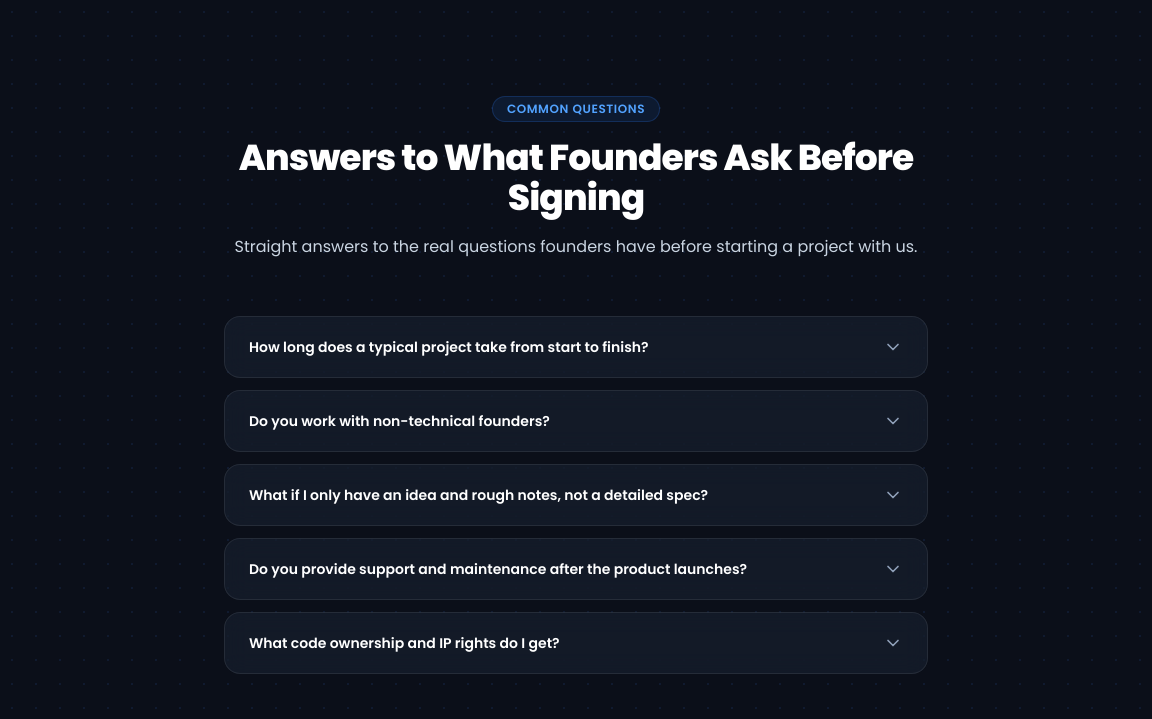
Test: FAQ Component › expands an FAQ answer when the question is clicked
Click the button "How long does a typical project take from start to finish?". click: (576, 347)
box: 225,317 -> 927,377
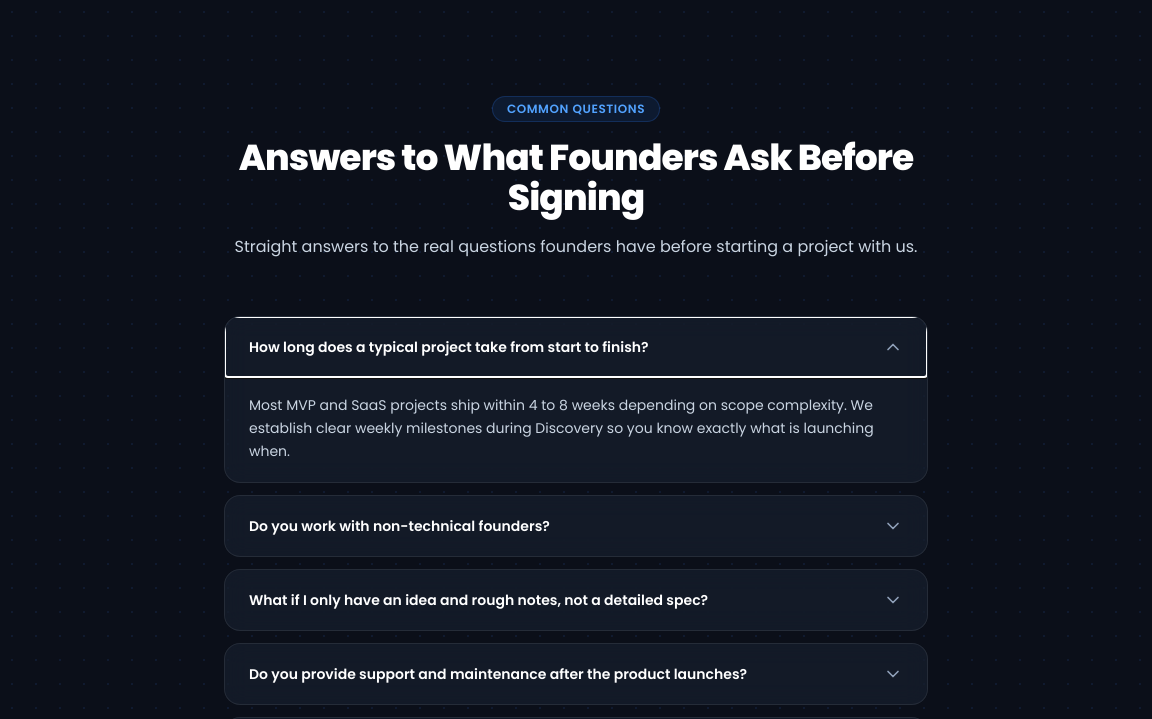
Expected: the text "Most MVP and SaaS projects ship within 4 to 8 weeks depending on scope complexity. We establish clear weekly milestones " is shown, 249,395 -> 874,460
